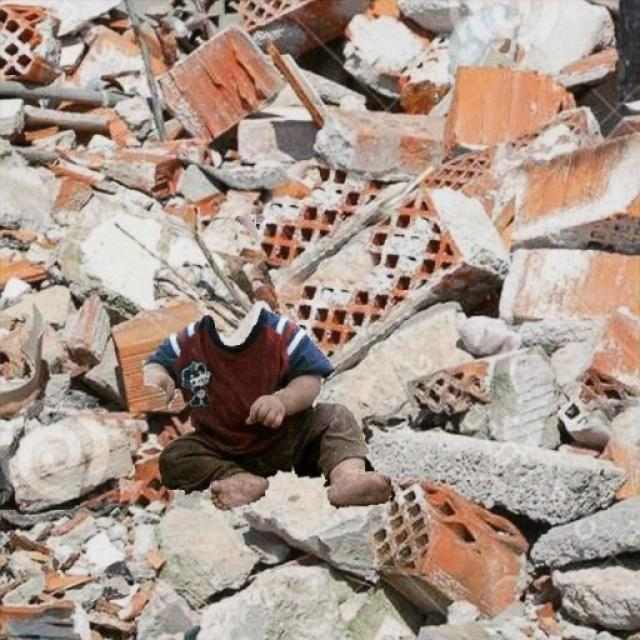Person in Rubble: (142, 214, 390, 510)
